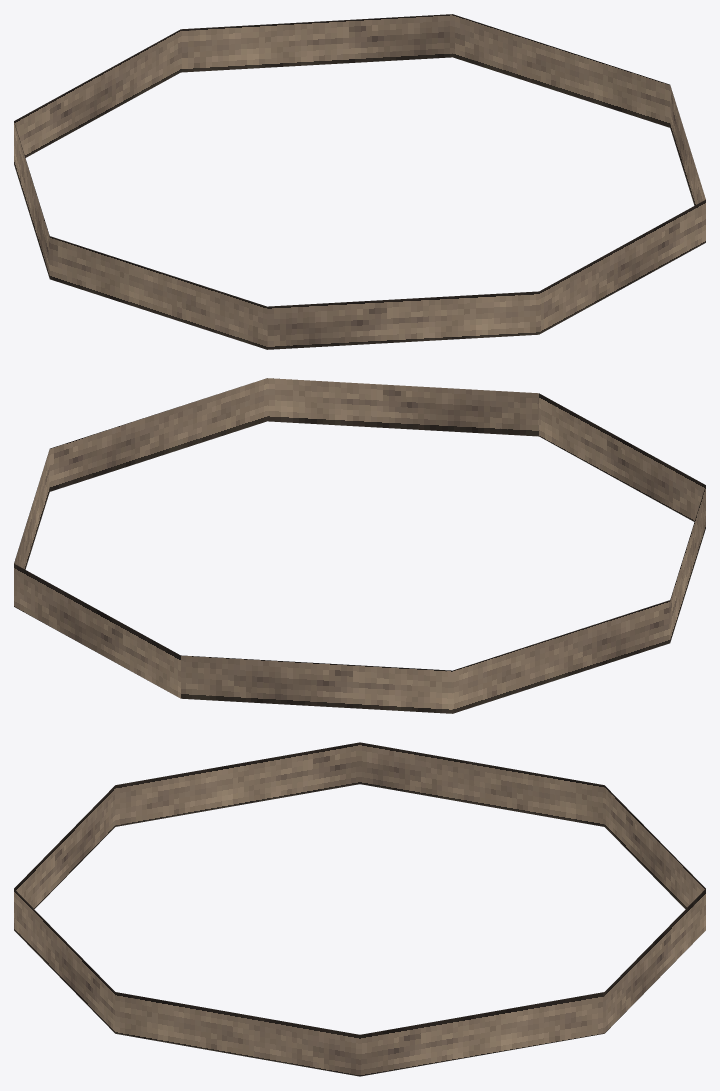
Rendered from group.001_lev3.glb.
The picture shows the model from 3 angles, top to bottom: view 1: azimuth 30°, elevation 25°; view 2: azimuth 150°, elevation 25°; view 3: azimuth 270°, elevation 25°; orthographic projection. The views are drawn at different scales.
Visible parts, largest first — view 1: group.001_lev3; view 2: group.001_lev3; view 3: group.001_lev3.
Boxes of the visible parts, left/top/right/bottom form: group.001_lev3: left=14, top=14, right=705, bottom=349; group.001_lev3: left=14, top=378, right=705, bottom=713; group.001_lev3: left=14, top=742, right=705, bottom=1076.
Size of the model in its own units: 13.82 by 0.9212 by 13.82.
1 material, 1 textured.
